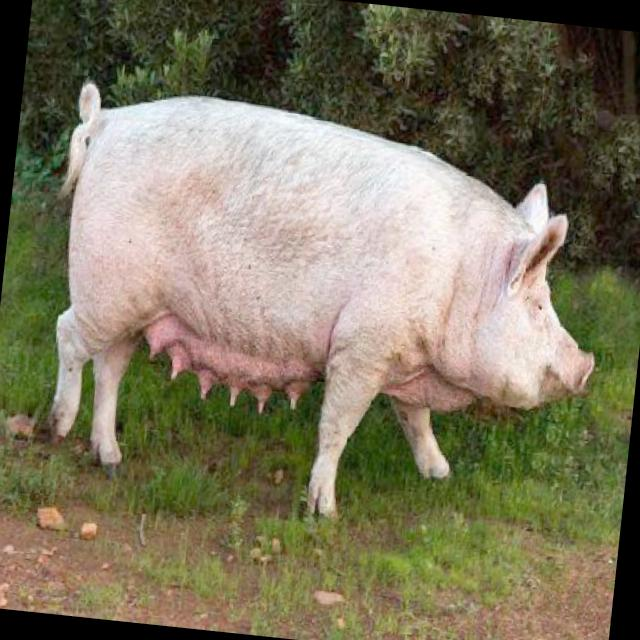pig: (53, 83, 593, 515)
